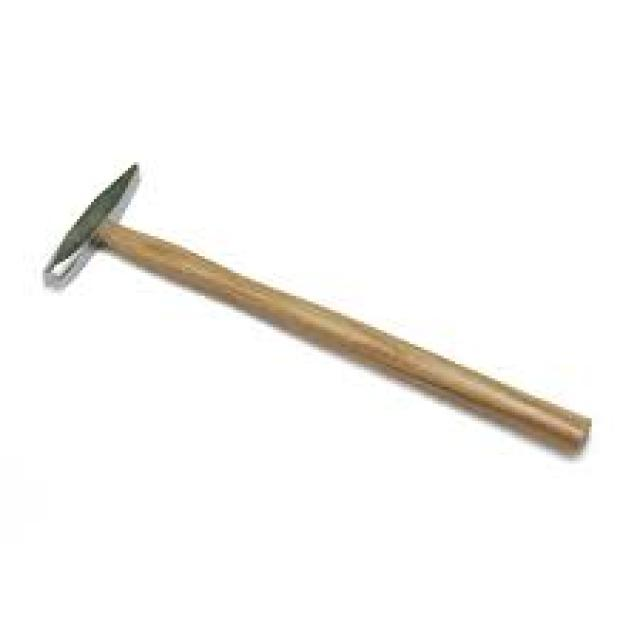hammer: (16, 132, 638, 492)
